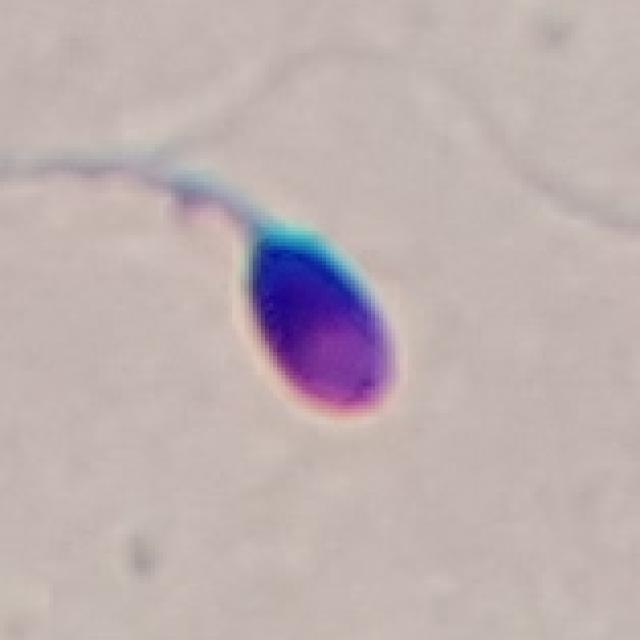normal sperm: (156, 170, 400, 418)
